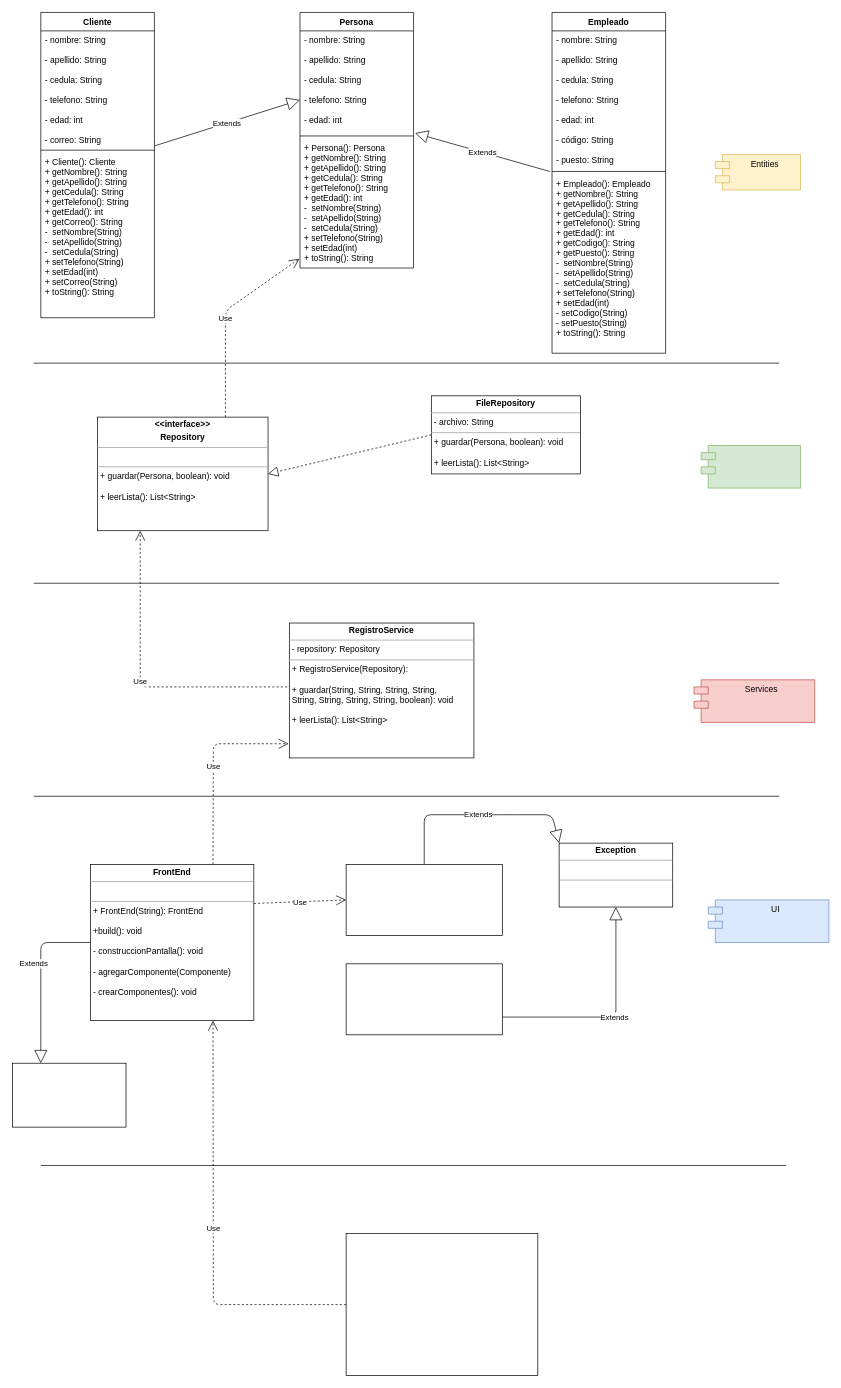
The diagram is 841 pixels wide and 1388 high, and some of its shapes have lost their labels. Here are the shapes that lost their labels. From the top down, the centre of each, then its label:
[750,466]: Repositories
[423,899]: ErrorEdadException + ErrorEdadException(String)
[423,999]: ErrorEmailException + ErrorEmailException()
[69,1095]: JFrame
[441,1304]: Main + main(String[ ] args) : void
